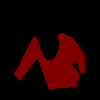maglia: (13, 32, 85, 90)
